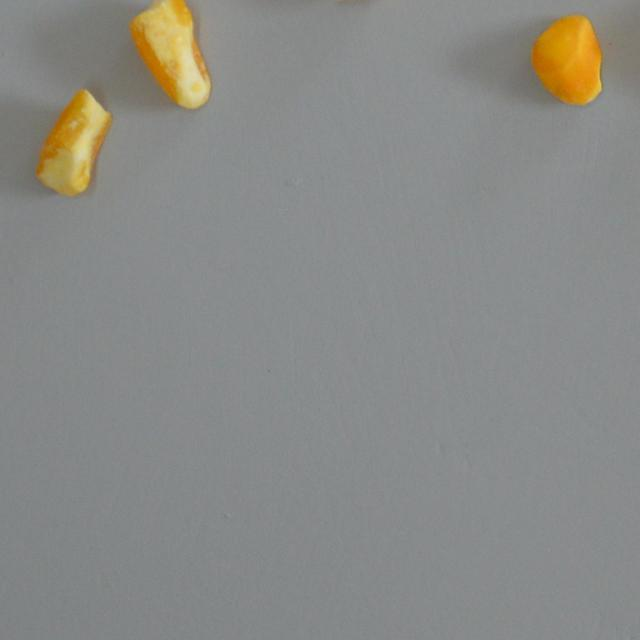estandar: (530, 12, 603, 105)
pelicula: (128, 0, 212, 111), (34, 86, 112, 197)
